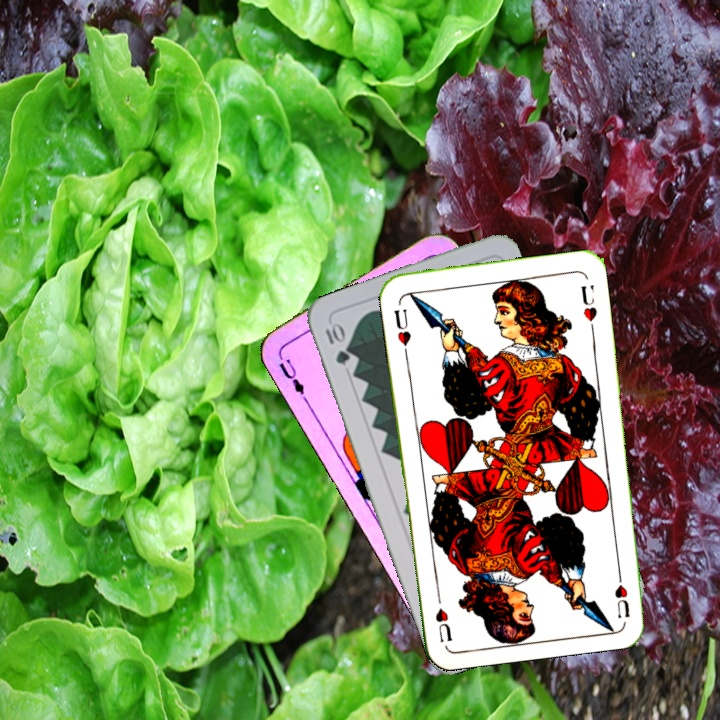EU: (275, 354, 309, 404)
G10: (321, 319, 353, 368)
HU: (610, 563, 632, 620), (390, 305, 413, 357)
